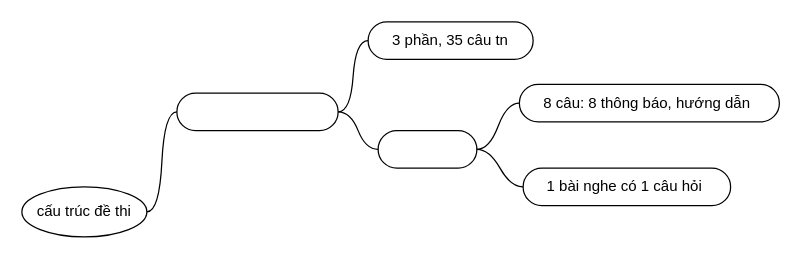
Image size: 801x259. Some labels were removed from this diagram. Here are the shapes that lost their labels. From the top down, the centre of each, then its label:
At (257,111): "listening: 40 min".
At (427,148): "phần 1".
